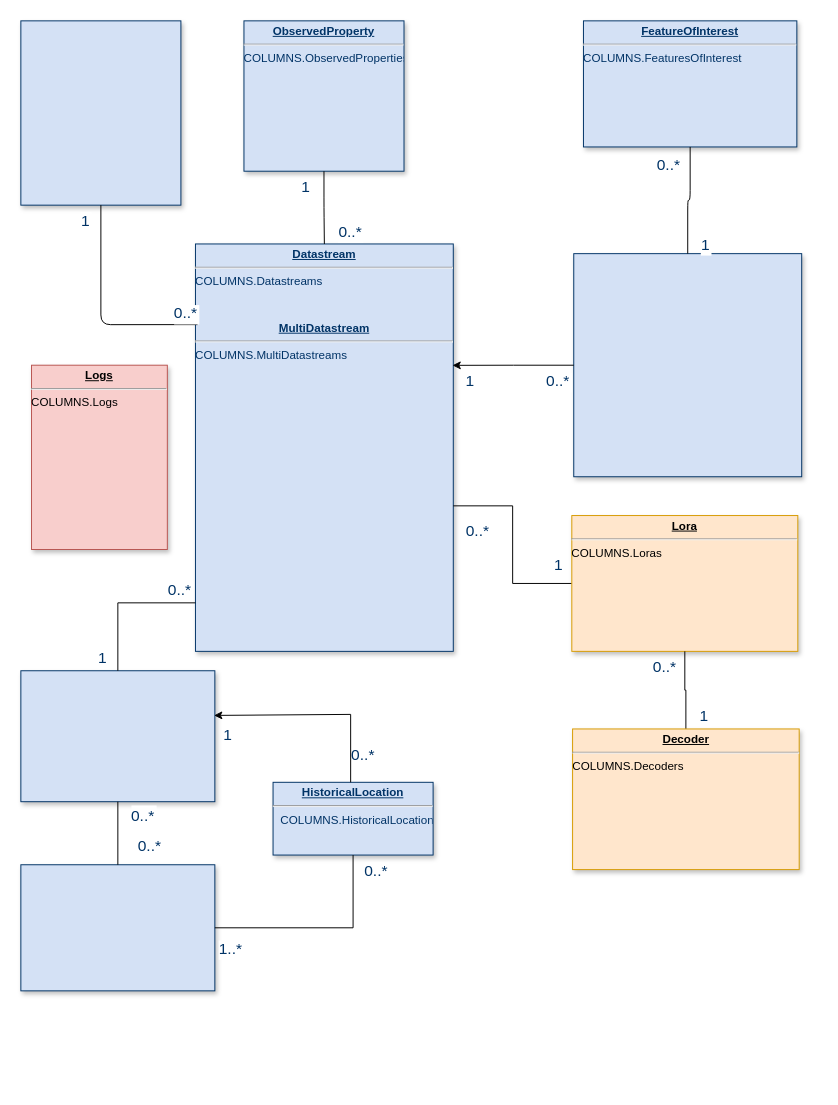
This 838x1105 diagram has some shape labels left out. The centre of each missing label's shape, as x and y in pixels:
Location COLUMNS.Locations: pixel 118 929
Observation COLUMNS.Observations: pixel 688 366
Sensor COLUMNS.Sensors: pixel 101 114
Thing COLUMNS.Things: pixel 118 737
